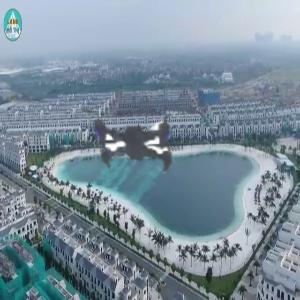drone: (31, 32, 240, 241)
